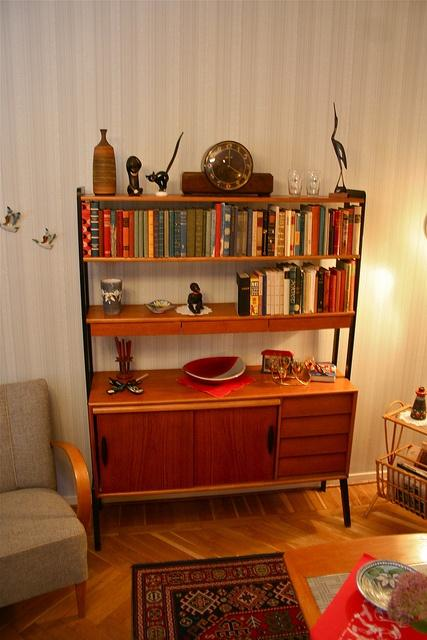Rak: (74, 184, 366, 386)
